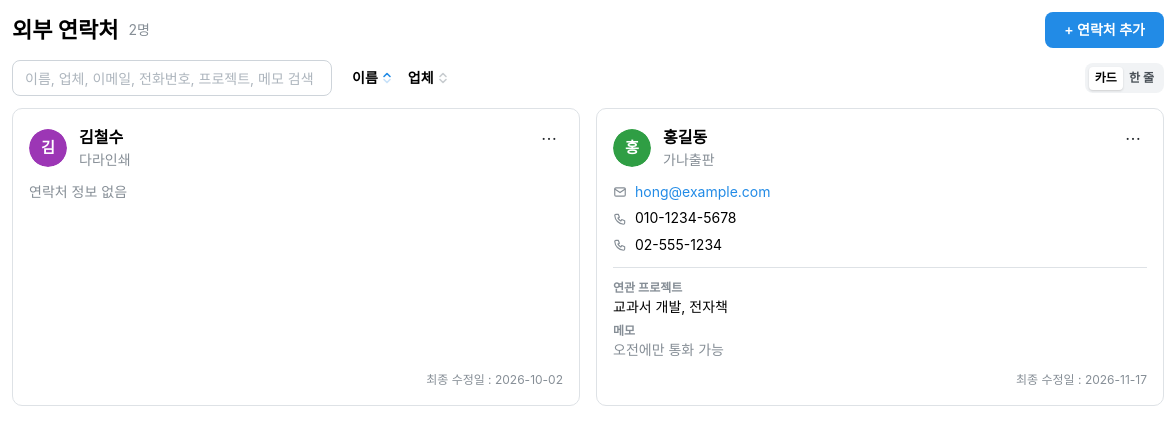
ContactsPage › 검색하면 업체·프로젝트·전화번호 숫자로 거른다
Expected: the text "홍길동" is shown, [663, 125, 714, 150]
Step 1. Type "교과서" into the field named "연락처 검색" → (172, 78), box [12, 60, 332, 96]
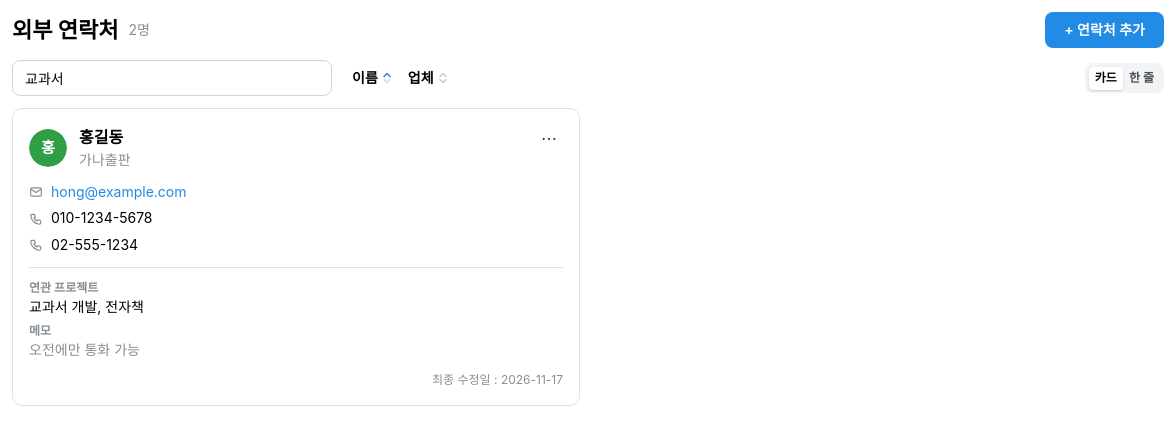
Now the text "김철수" is gone
Step 2. Replace the text in the field named "연락처 검색" with "01012345678" → (172, 78), box [12, 60, 332, 96]
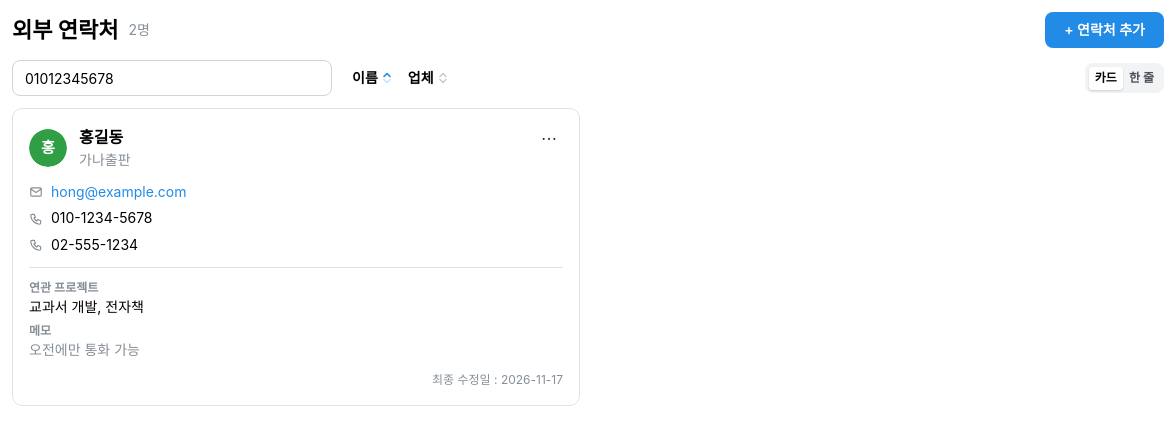
Expected: the text "홍길동" is shown, [79, 125, 130, 150]
// 전화번호 2 숫자와 메모로도 찾음
Step 3. Replace the text in the field named "연락처 검색" with "025551234" → (172, 78), box [12, 60, 332, 96]
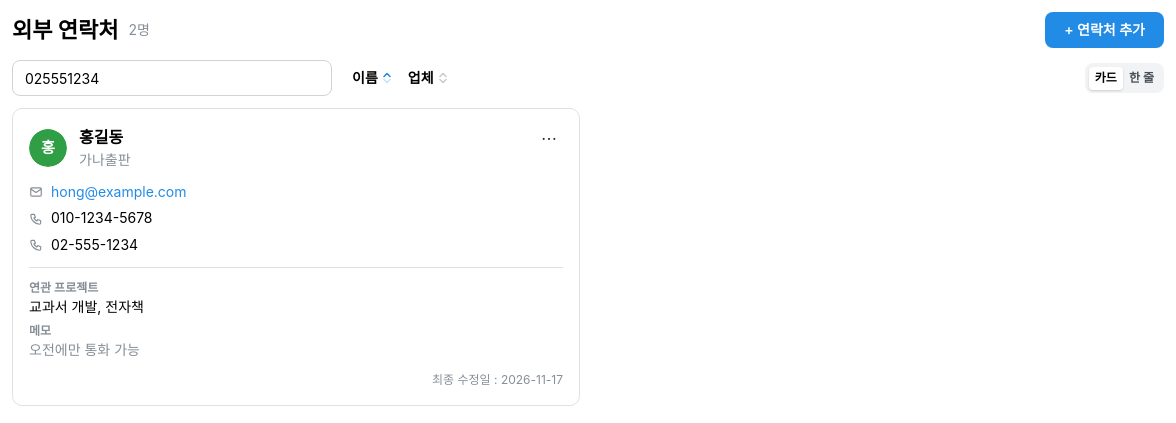
Expected: the text "홍길동" is shown, [79, 125, 130, 150]
Step 4. Replace the text in the field named "연락처 검색" with "통화 가능" → (172, 78), box [12, 60, 332, 96]
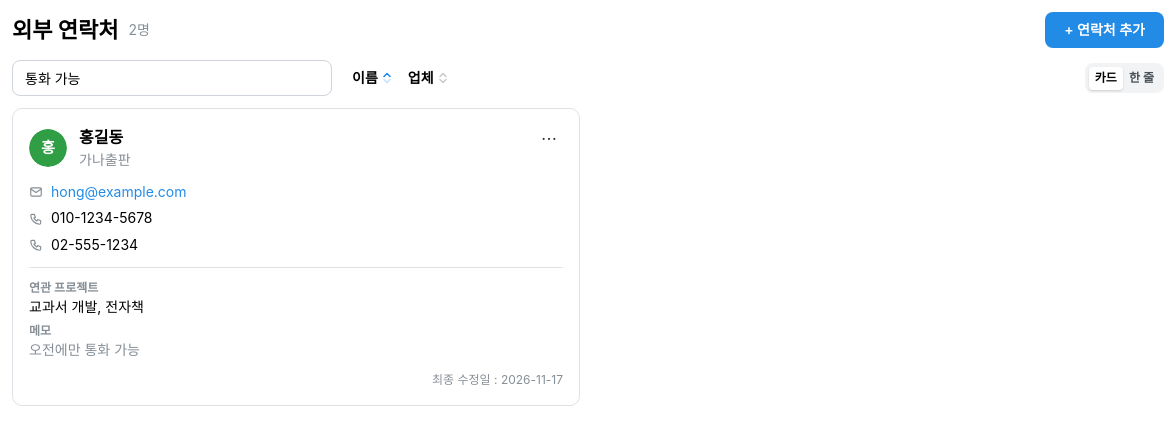
Expected: the text "홍길동" is shown, [79, 125, 130, 150]
Expected: the text "김철수" is not shown
Step 5. Replace the text in the field named "연락처 검색" with "없는 업체" → (172, 78), box [12, 60, 332, 96]
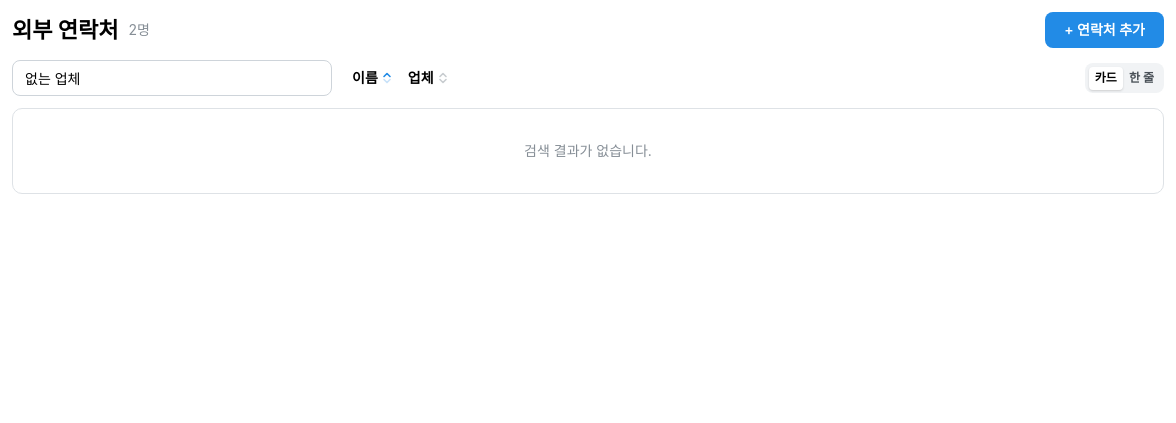
Now the text "검색 결과가 없습니다." is shown, box [524, 142, 652, 159]
